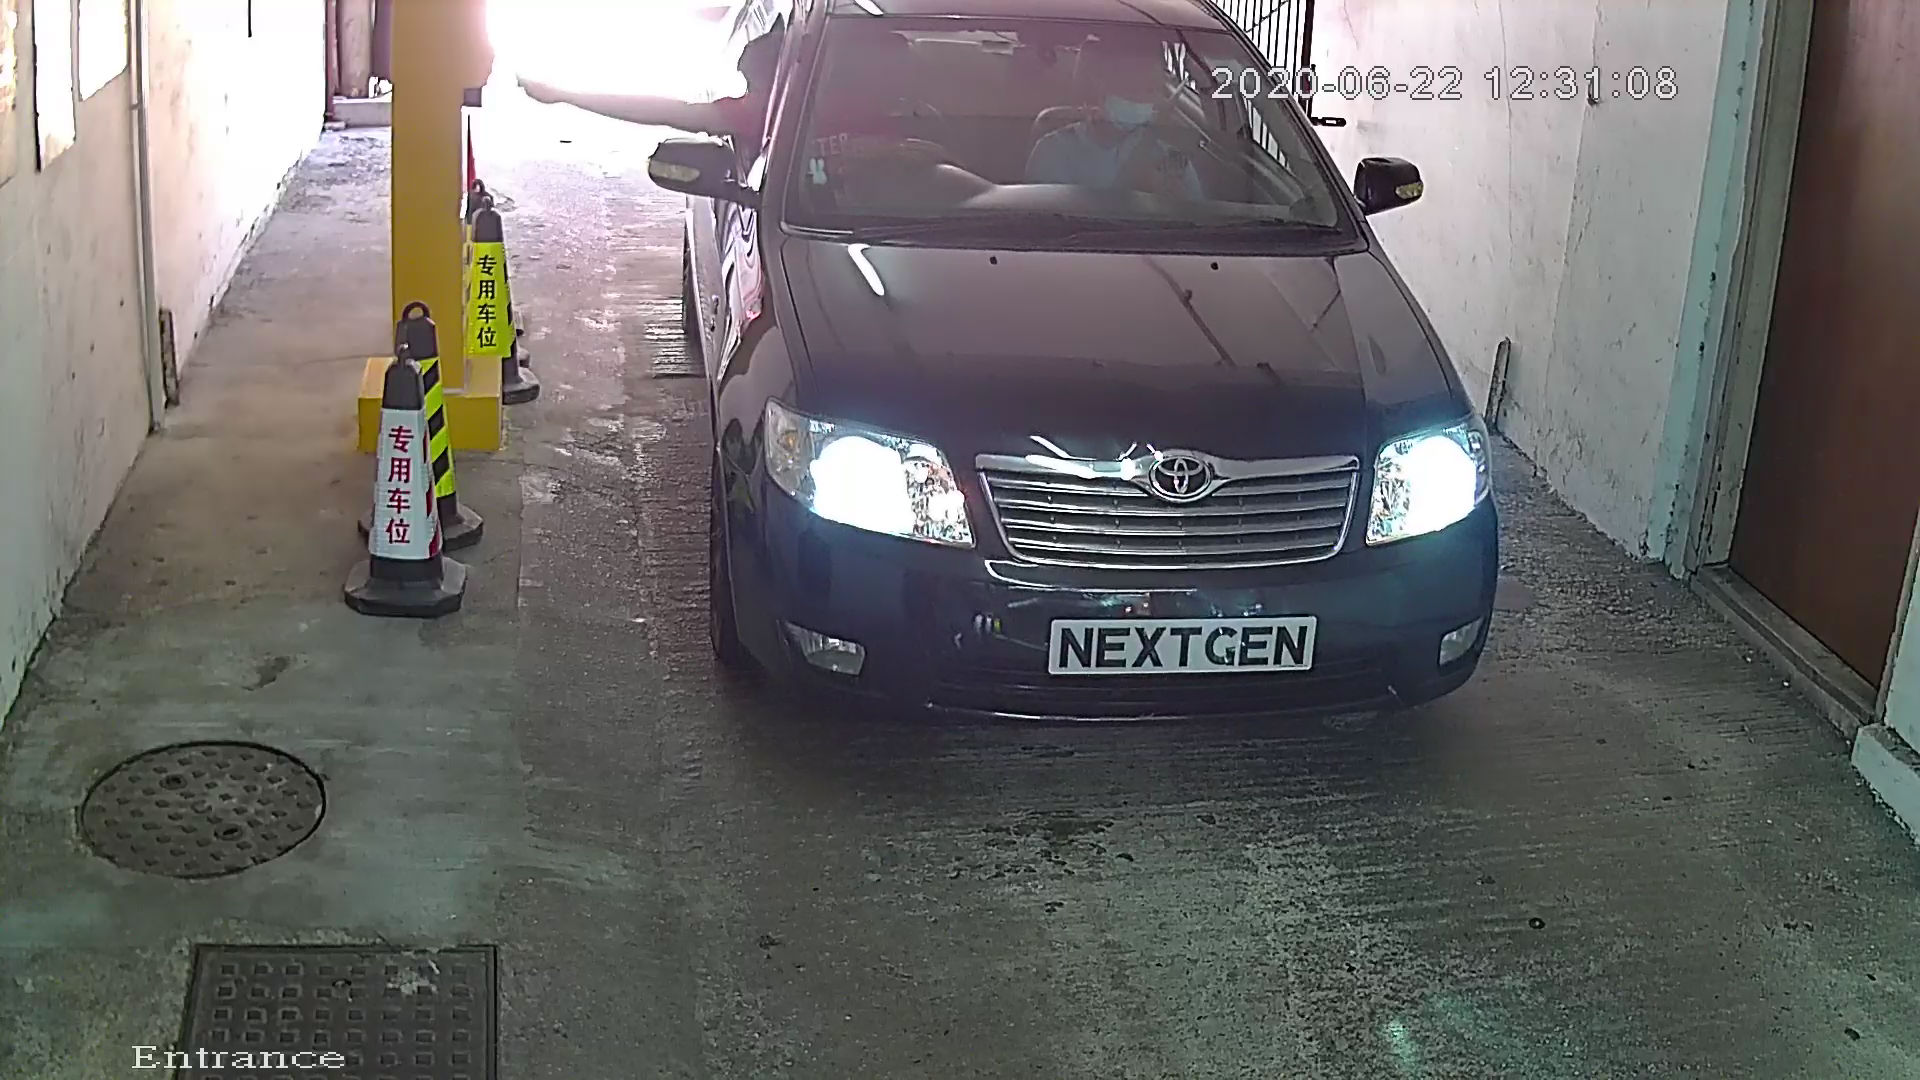privatecar: (626, 1, 1516, 825)
